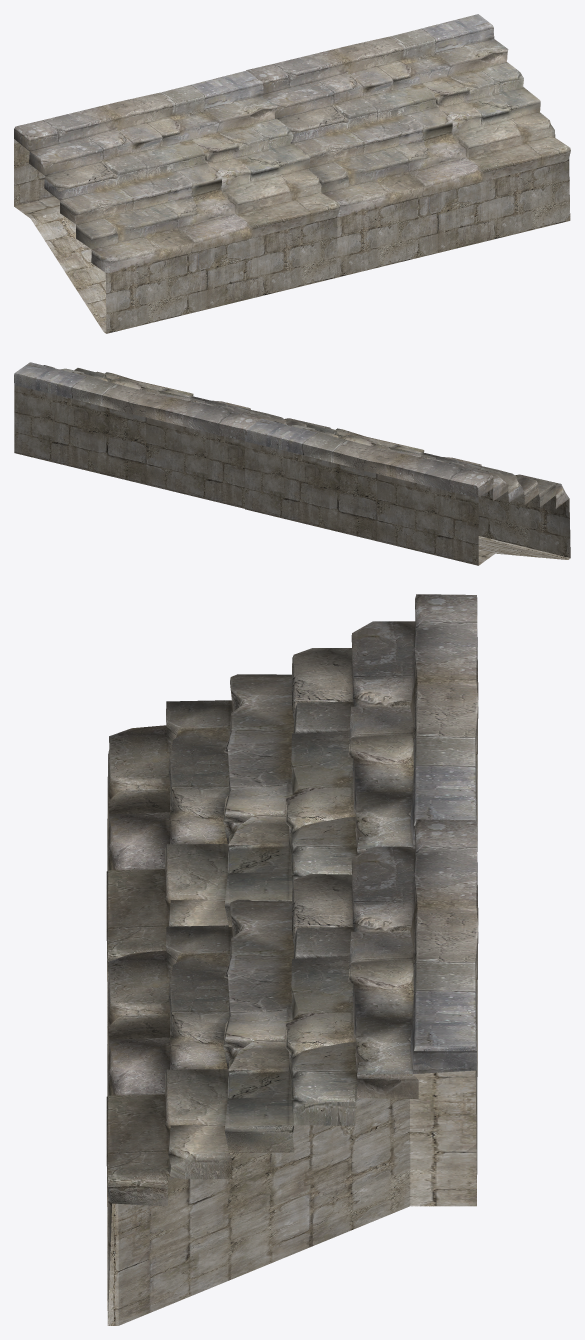
Rendered from Stair.fbx.
3 renders of one model, top to bottom at view 1: azimuth 30°, elevation 25°; view 2: azimuth 150°, elevation 25°; view 3: azimuth 270°, elevation 25°, orthographic. The views are drawn at different scales.
Visible parts, largest first — view 1: LV_Nigraturis_Stairs02_SM_HSH; view 2: LV_Nigraturis_Stairs02_SM_HSH; view 3: LV_Nigraturis_Stairs02_SM_HSH.
Boxes of the visible parts, x1,y1,x2,y2 form: LV_Nigraturis_Stairs02_SM_HSH: (14,14,570,333); LV_Nigraturis_Stairs02_SM_HSH: (14,362,570,565); LV_Nigraturis_Stairs02_SM_HSH: (106,594,478,1325).
Size of the model in its own units: 2.12 by 0.6096 by 0.7327.
Materials: 2 (2 with a texture image).
